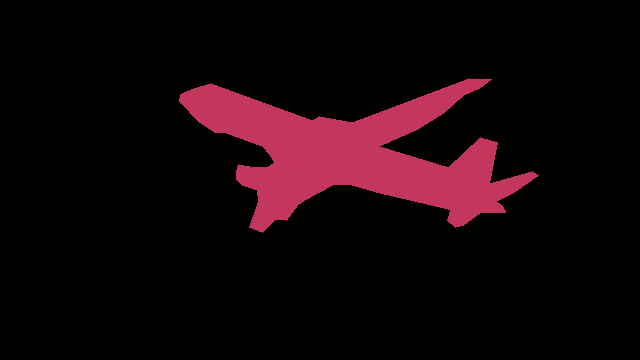Airplane: (179, 78, 538, 232)
